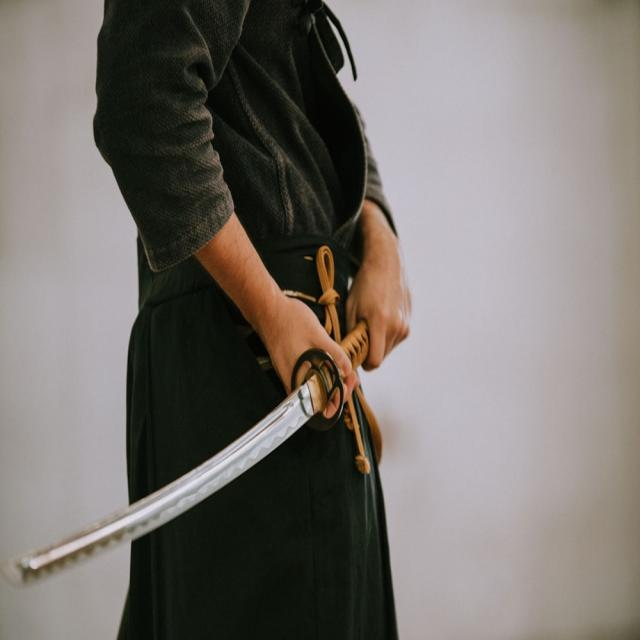katana: (1, 321, 371, 592)
